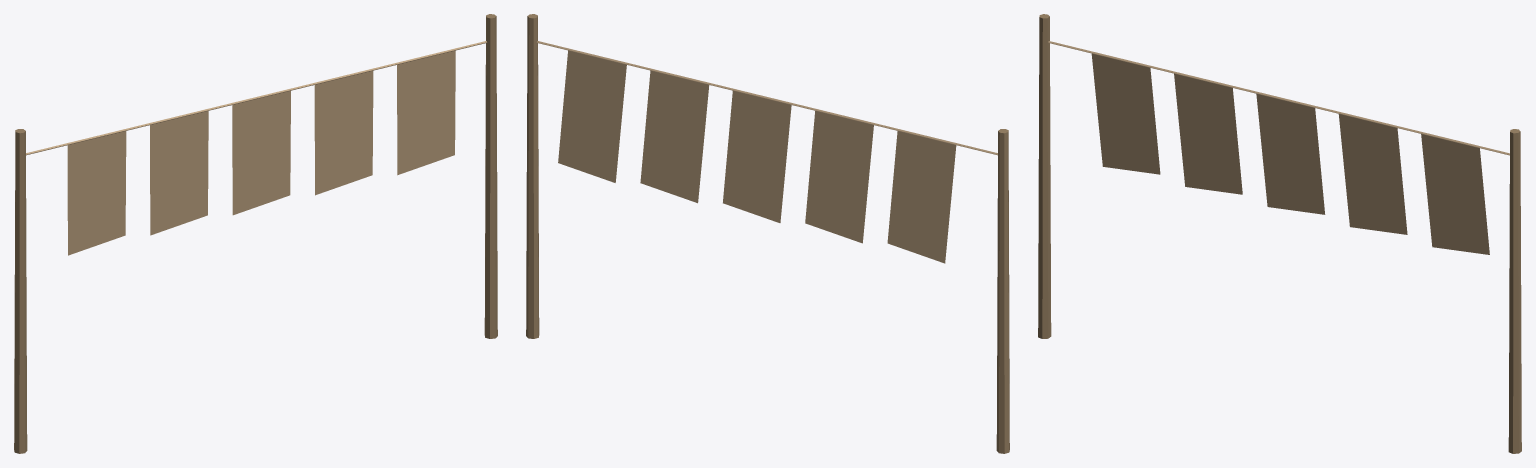
The model's file is washing_line.glb.
3 views of the same model, side by side, from view 1: azimuth 30°, elevation 25°; view 2: azimuth 150°, elevation 25°; view 3: azimuth 330°, elevation 25° (orthographic).
Visible parts, largest first — view 1: washing_line; view 2: washing_line; view 3: washing_line.
Boxes of the visible parts, <box> form: washing_line: <box>14,14,497,453</box>; washing_line: <box>526,14,1009,453</box>; washing_line: <box>1038,14,1521,453</box>.
Bounding box in the file's own units: 4.1 × 2.6 × 0.1287.
